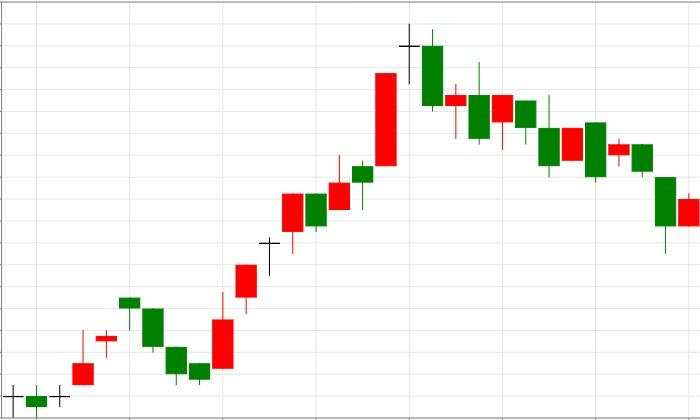evening_star_fall: (212, 24, 444, 369)
